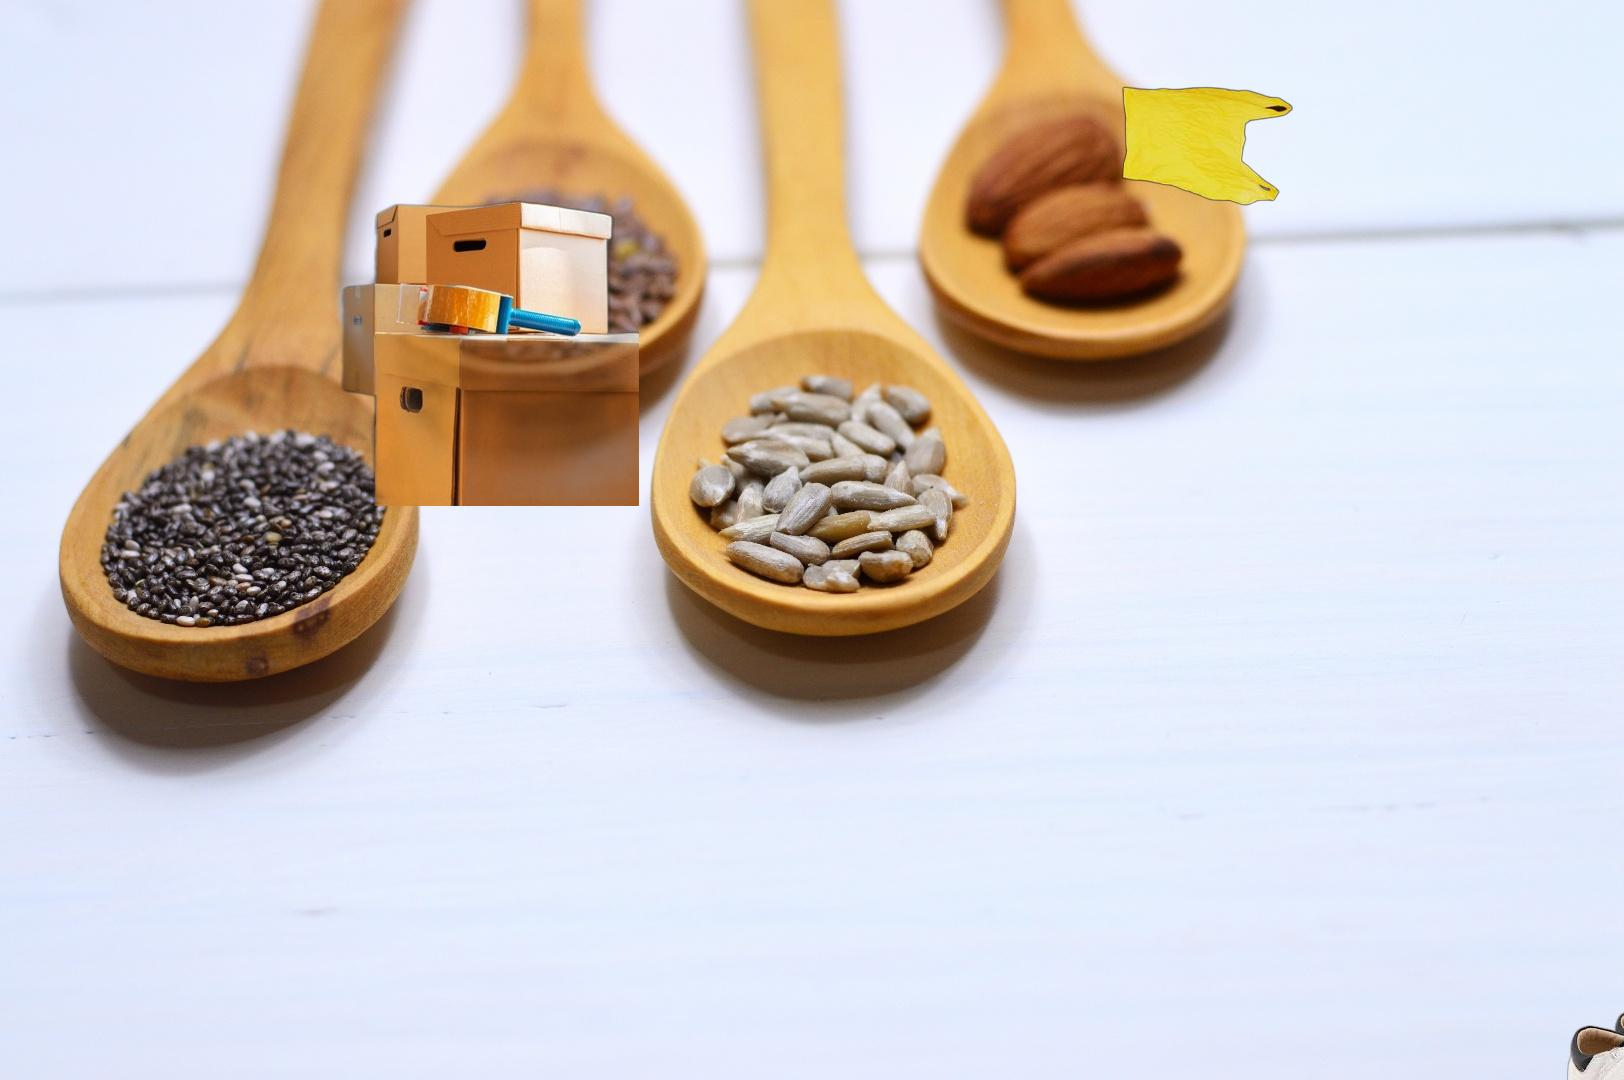plastic-bag: (1120, 84, 1296, 209)
shoes: (1565, 1006, 1624, 1080)
trashbox-cardboard: (158, 110, 639, 506)
